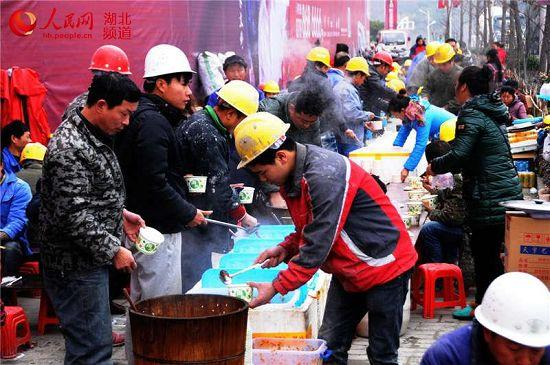helmet: (235, 114, 293, 172), (143, 45, 202, 80), (215, 80, 262, 120), (88, 45, 134, 77), (20, 143, 49, 166), (307, 47, 334, 70), (345, 57, 374, 77), (433, 43, 456, 65), (373, 51, 397, 72), (263, 81, 282, 95)
